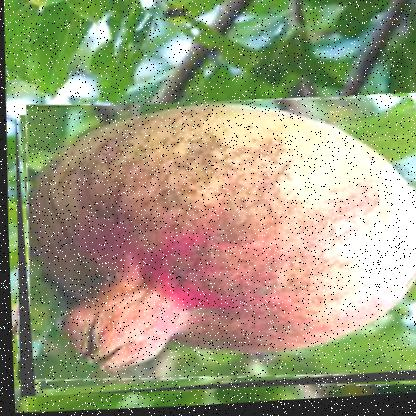pomegranate_rotten: (8, 88, 415, 404)
